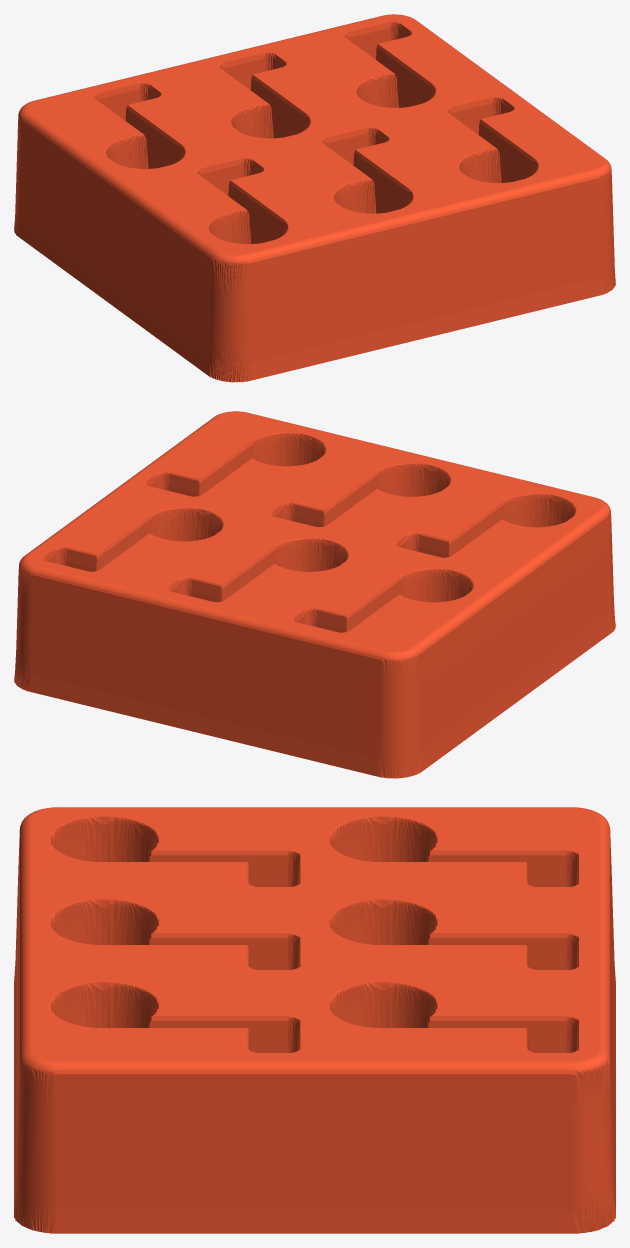
The model's file is mold.glb.
3 views of the same model, one above another, from view 1: azimuth 30°, elevation 25°; view 2: azimuth 150°, elevation 25°; view 3: azimuth 270°, elevation 25° (orthographic). The views are drawn at different scales.
Visible parts, largest first — view 1: geometry_0; view 2: geometry_0; view 3: geometry_0.
Part boxes in pixels (x1,y1,x2,y2): geometry_0: (14,14,615,382); geometry_0: (14,411,615,778); geometry_0: (14,807,615,1233).
Bounding box in the file's own units: 0.1311 × 0.0378 × 0.1246.
